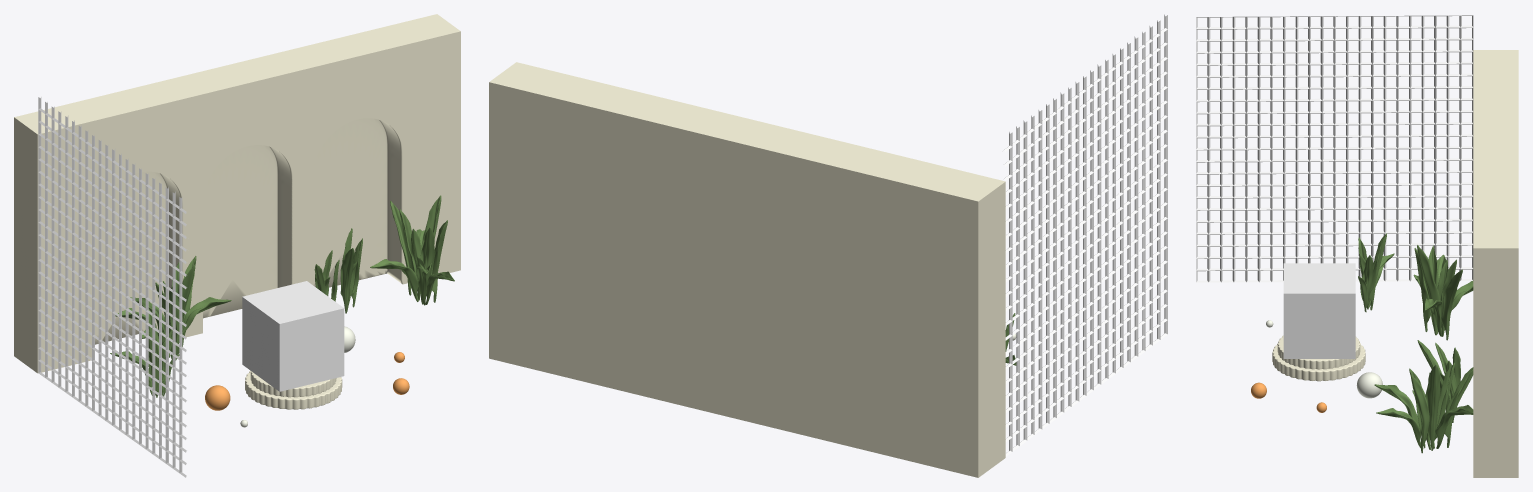
Rendered from podium_plant_arches.glb.
3 renders of one model, left to right at view 1: azimuth 30°, elevation 25°; view 2: azimuth 150°, elevation 25°; view 3: azimuth 270°, elevation 25°, orthographic. The views are drawn at different scales.
Parts seen in each view (by area): view 1: Curved_pit_wall, Battens, placeholder, Ornamental2, Pallet, Ornamental5, Ornamental3, Ornamental1, Ornamental4, Sphere4; view 2: Curved_pit_wall, Battens; view 3: Battens, Curved_pit_wall, placeholder, Ornamental2, Ornamental5, Pallet, Ornamental1, Ornamental3, Sphere5.
Part boxes in pixels (x1,y1,x2,y2): Curved_pit_wall: (14, 14, 460, 373); Battens: (38, 97, 186, 477); placeholder: (242, 281, 344, 391); Ornamental2: (370, 195, 454, 305); Pallet: (245, 370, 342, 409); Ornamental5: (115, 256, 231, 358); Ornamental3: (340, 228, 362, 313); Ornamental1: (110, 313, 179, 397); Ornamental4: (314, 250, 339, 301); Sphere4: (205, 385, 230, 410); Curved_pit_wall: (489, 62, 1005, 477); Battens: (1004, 14, 1167, 456); Battens: (1196, 15, 1473, 282); Curved_pit_wall: (1473, 50, 1518, 477); placeholder: (1283, 263, 1355, 358); Ornamental2: (1374, 362, 1473, 453); Ornamental5: (1413, 245, 1473, 340); Pallet: (1272, 335, 1365, 381); Ornamental1: (1358, 233, 1394, 312); Ornamental3: (1417, 340, 1460, 422); Sphere5: (1356, 372, 1382, 398).
Bounding box in the file's own units: 2.93 × 1.83 × 2.01.
